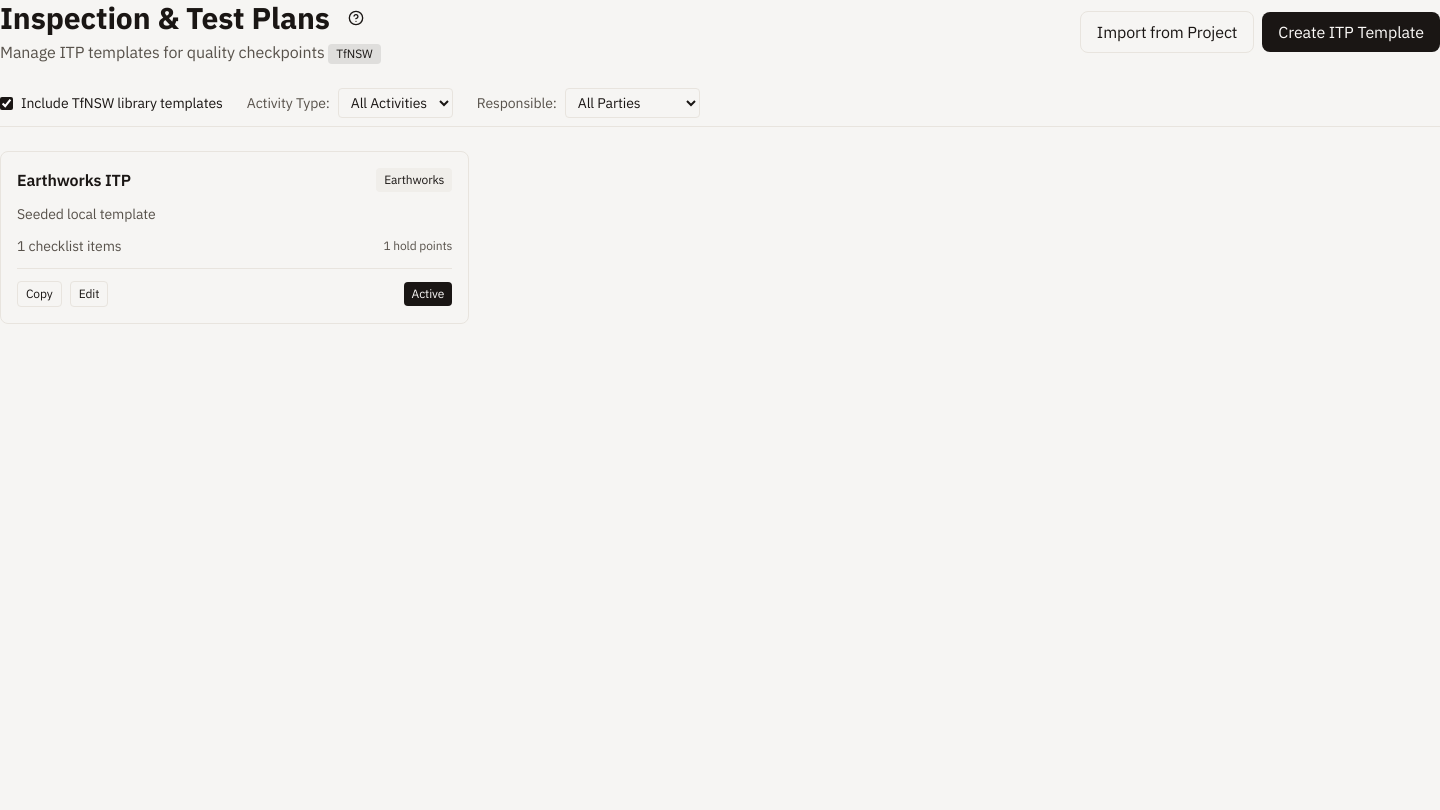
Test: ITPPage propagate-after-edit › offers the propagate dialog only when the template is assigned to lots
The width and height of the screenshot is (1440, 810).
Click the button "Edit" at (89, 294), box [70,281,108,307]
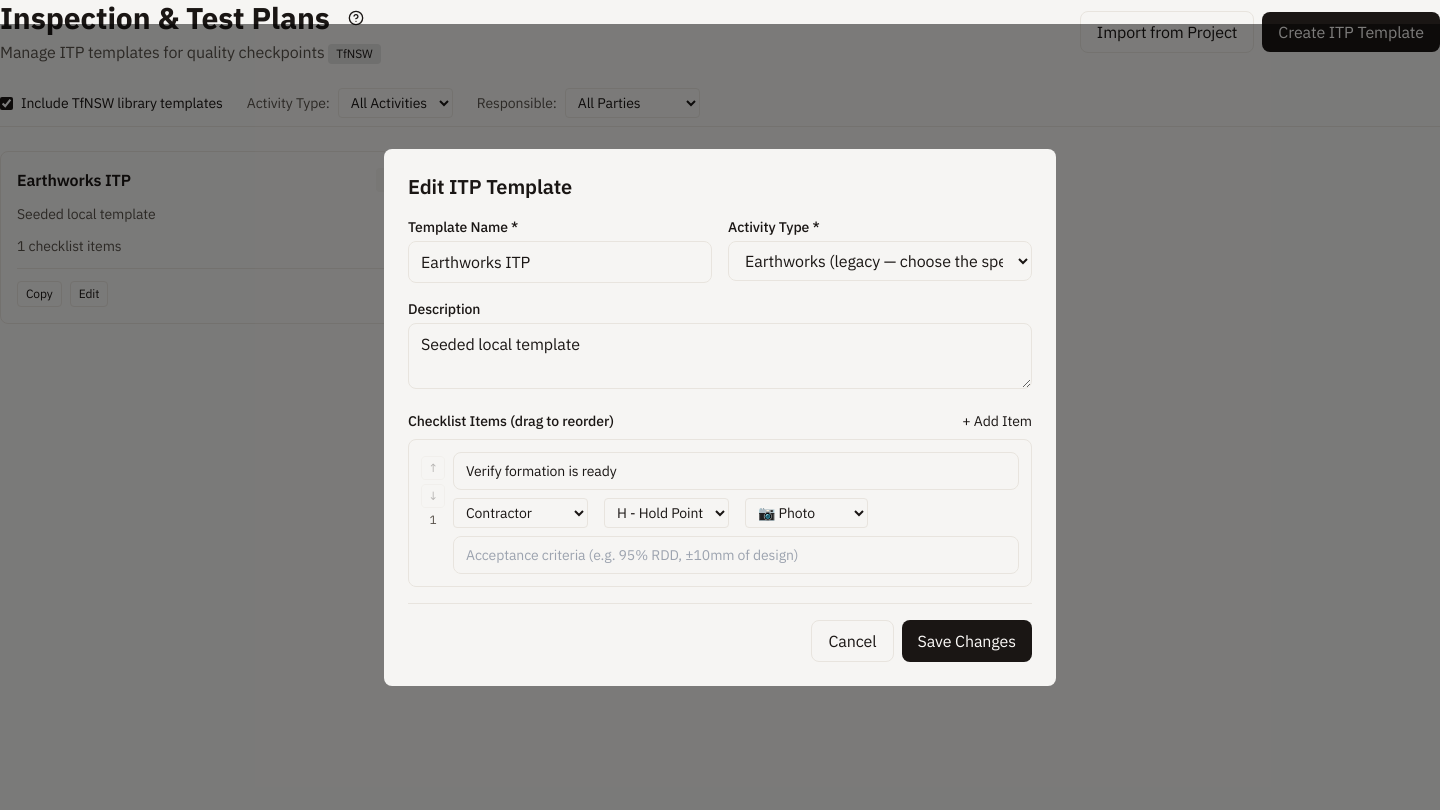
Click the button "Save Changes" at (967, 640), box [902,620,1032,662]
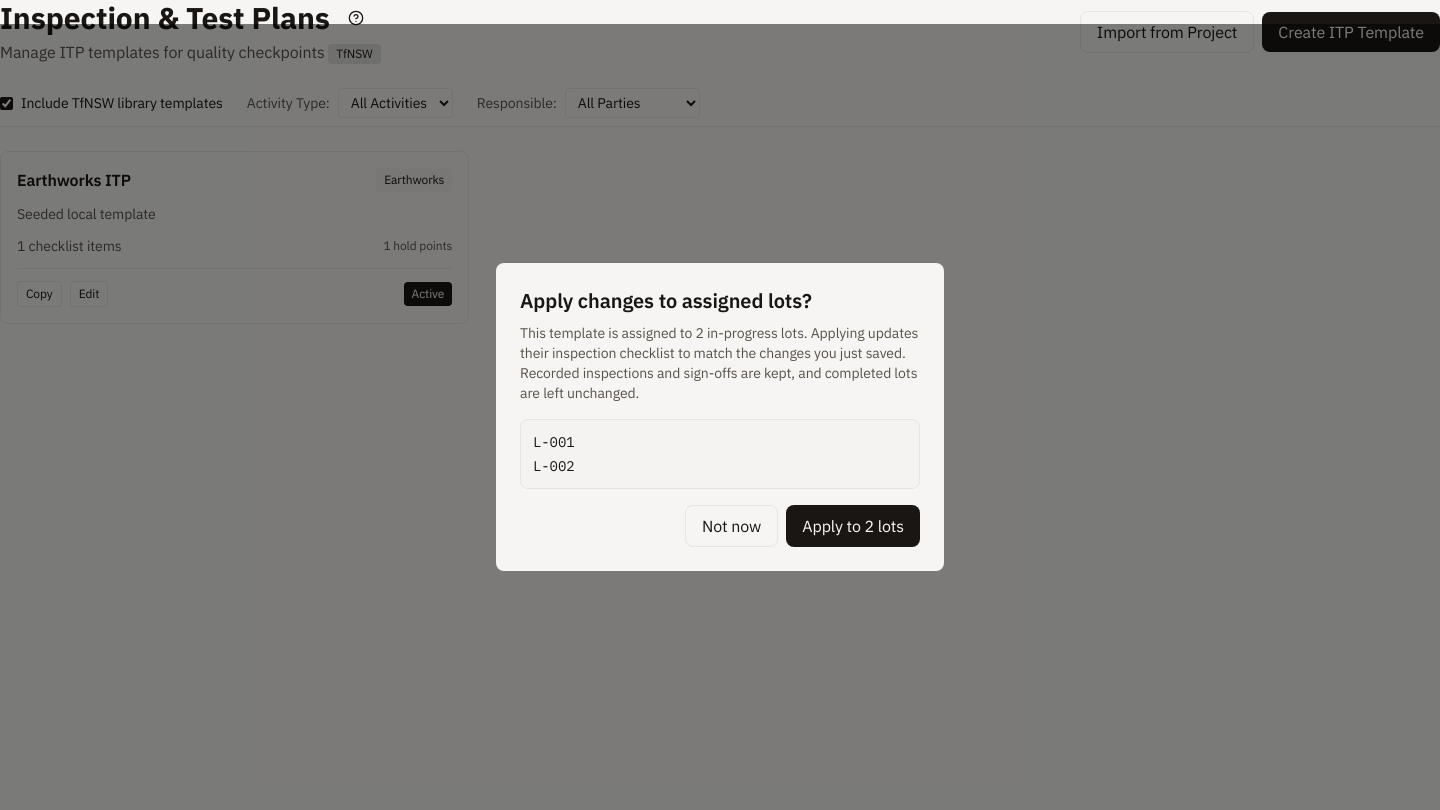
Now the dialog named "Apply template changes to assigned lots" is shown, box [496,263,944,571]
Now the list item "L-001" is shown, box [533,433,574,451]
Now the list item "L-002" is shown, box [533,457,574,475]
